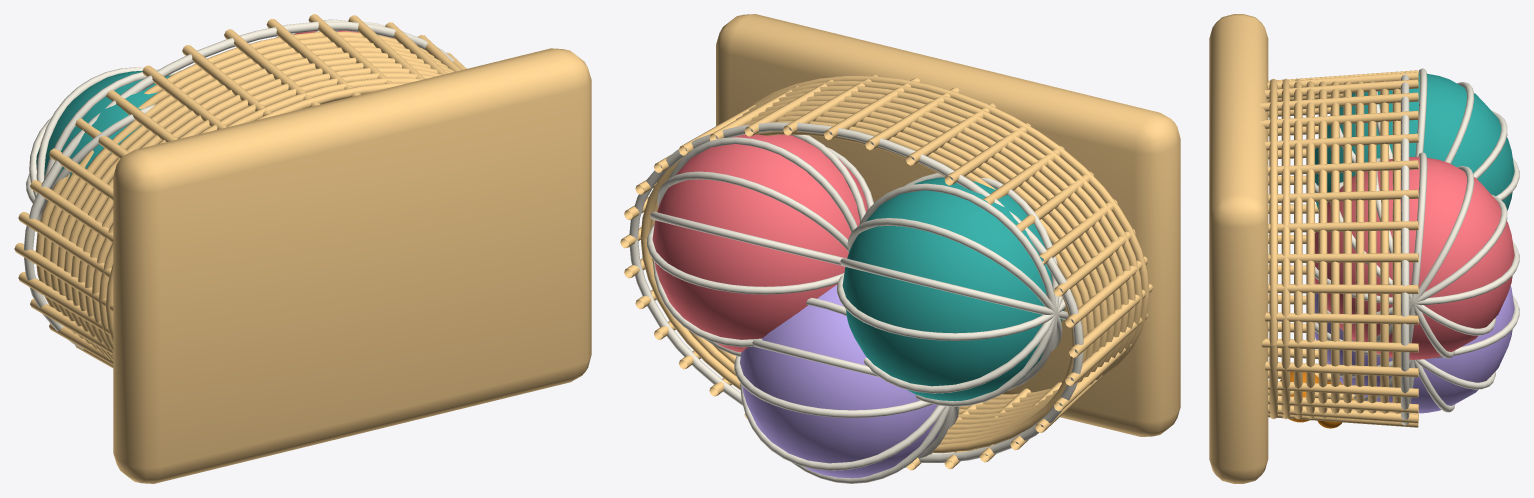
File: RunnerYarnBasket.fbx
3 renders of one model, left to right at view 1: azimuth 30°, elevation 25°; view 2: azimuth 150°, elevation 25°; view 3: azimuth 270°, elevation 25°, orthographic. The views are drawn at different scales.
Parts seen in each view (by area): view 1: RunnerYarnBasket; view 2: RunnerYarnBasket; view 3: RunnerYarnBasket.
Part boxes in pixels (x1,y1,x2,y2): RunnerYarnBasket: [14, 14, 591, 483]; RunnerYarnBasket: [620, 14, 1180, 483]; RunnerYarnBasket: [1209, 14, 1519, 483].
Size of the model in its own units: 0.8919 by 0.6512 by 0.5785.
